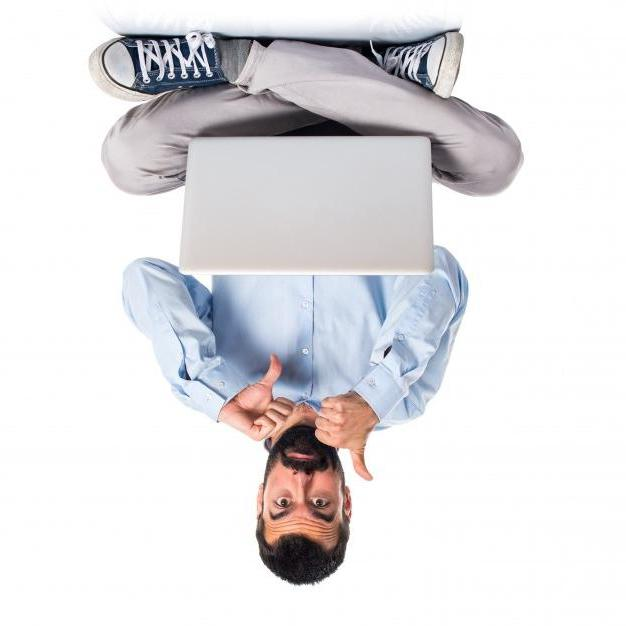thumbsdown: (315, 397, 373, 482)
